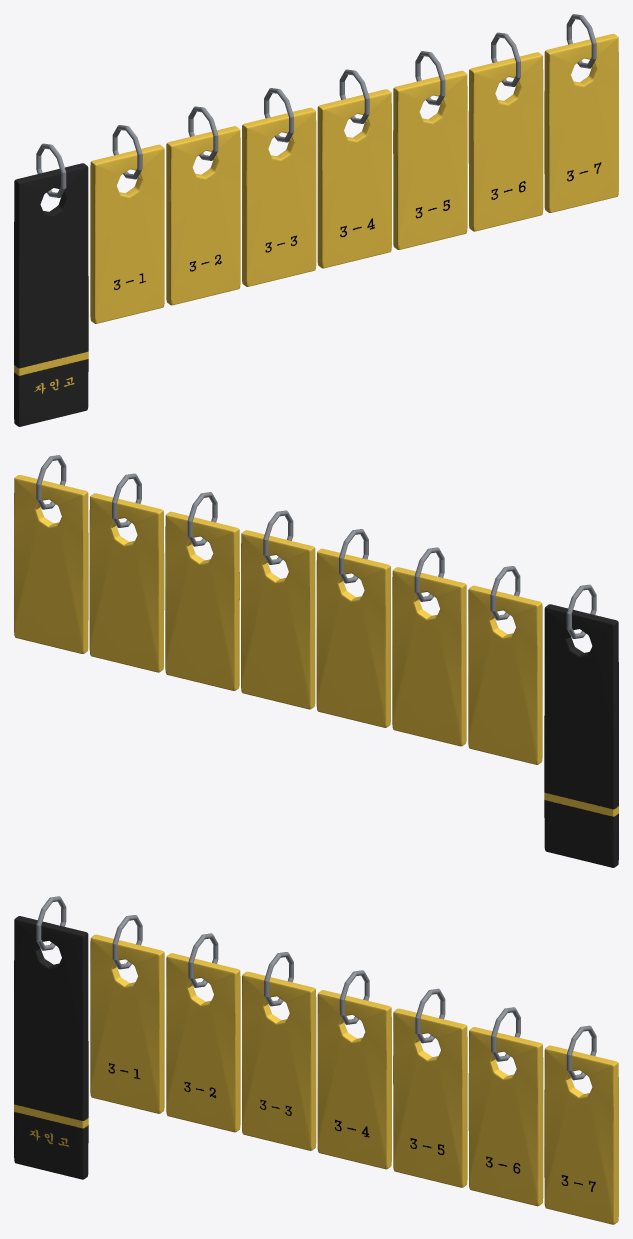
File: M_Keys.fbx
The picture shows the model from 3 angles, top to bottom: view 1: azimuth 30°, elevation 25°; view 2: azimuth 150°, elevation 25°; view 3: azimuth 330°, elevation 25°; orthographic projection.
Visible parts, largest first — view 1: longkey_Steeldoor_GEO, key_3_6_GEO, key_3_1_GEO, key_3_5_GEO, key_3_2_GEO, key_3_7_GEO, key_3_4_GEO, key_3_3_GEO; view 2: longkey_Steeldoor_GEO, key_3_6_GEO, key_3_2_GEO, key_3_1_GEO, key_3_7_GEO, key_3_4_GEO, key_3_5_GEO, key_3_3_GEO; view 3: longkey_Steeldoor_GEO, key_3_6_GEO, key_3_1_GEO, key_3_2_GEO, key_3_5_GEO, key_3_7_GEO, key_3_4_GEO, key_3_3_GEO.
Part boxes in pixels (x1,y1,x2,y2): longkey_Steeldoor_GEO: [14, 143, 88, 426]; key_3_6_GEO: [468, 32, 543, 231]; key_3_1_GEO: [90, 125, 164, 323]; key_3_5_GEO: [393, 51, 467, 249]; key_3_2_GEO: [166, 106, 240, 305]; key_3_7_GEO: [544, 14, 618, 212]; key_3_4_GEO: [317, 69, 391, 268]; key_3_3_GEO: [242, 88, 316, 286]; longkey_Steeldoor_GEO: [544, 584, 618, 867]; key_3_6_GEO: [89, 473, 164, 672]; key_3_2_GEO: [392, 547, 466, 746]; key_3_1_GEO: [468, 566, 542, 764]; key_3_7_GEO: [14, 455, 88, 653]; key_3_4_GEO: [241, 510, 315, 709]; key_3_5_GEO: [165, 492, 239, 690]; key_3_3_GEO: [316, 529, 390, 727]; longkey_Steeldoor_GEO: [14, 896, 88, 1179]; key_3_6_GEO: [468, 1007, 543, 1206]; key_3_1_GEO: [90, 915, 164, 1113]; key_3_2_GEO: [166, 933, 240, 1132]; key_3_5_GEO: [393, 988, 467, 1187]; key_3_7_GEO: [544, 1025, 618, 1224]; key_3_4_GEO: [317, 970, 391, 1169]; key_3_3_GEO: [242, 952, 316, 1150].
Bounding box in the file's own units: 26.55 × 11.52 × 2.09.
Materials: 8 (8 with a texture image).
